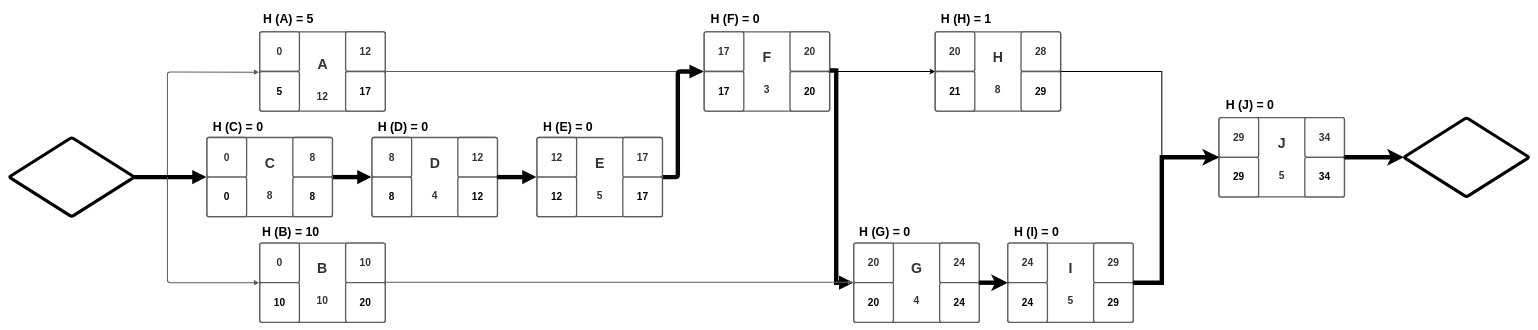
This 1538x330 diagram has some shape labels left out. The centre of each missing label's shape, as x and y in pixels:
"END" belongs at (1466,157).
"START" belongs at (71,177).
